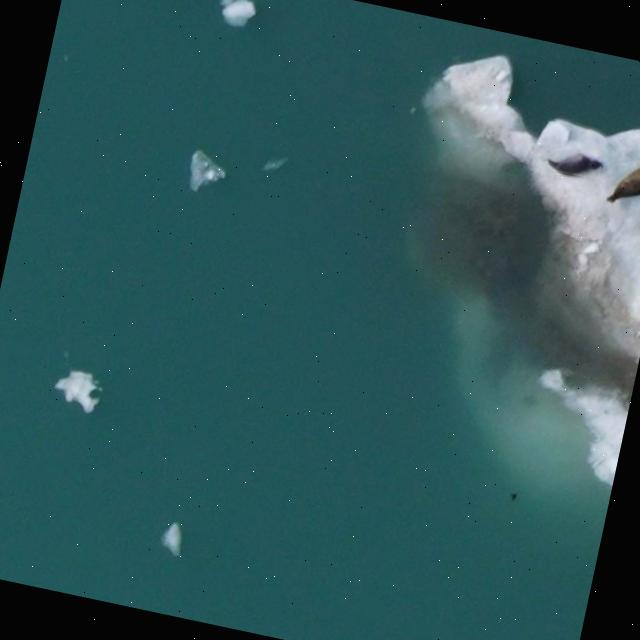seal: (607, 164, 640, 203), (547, 153, 602, 175)
